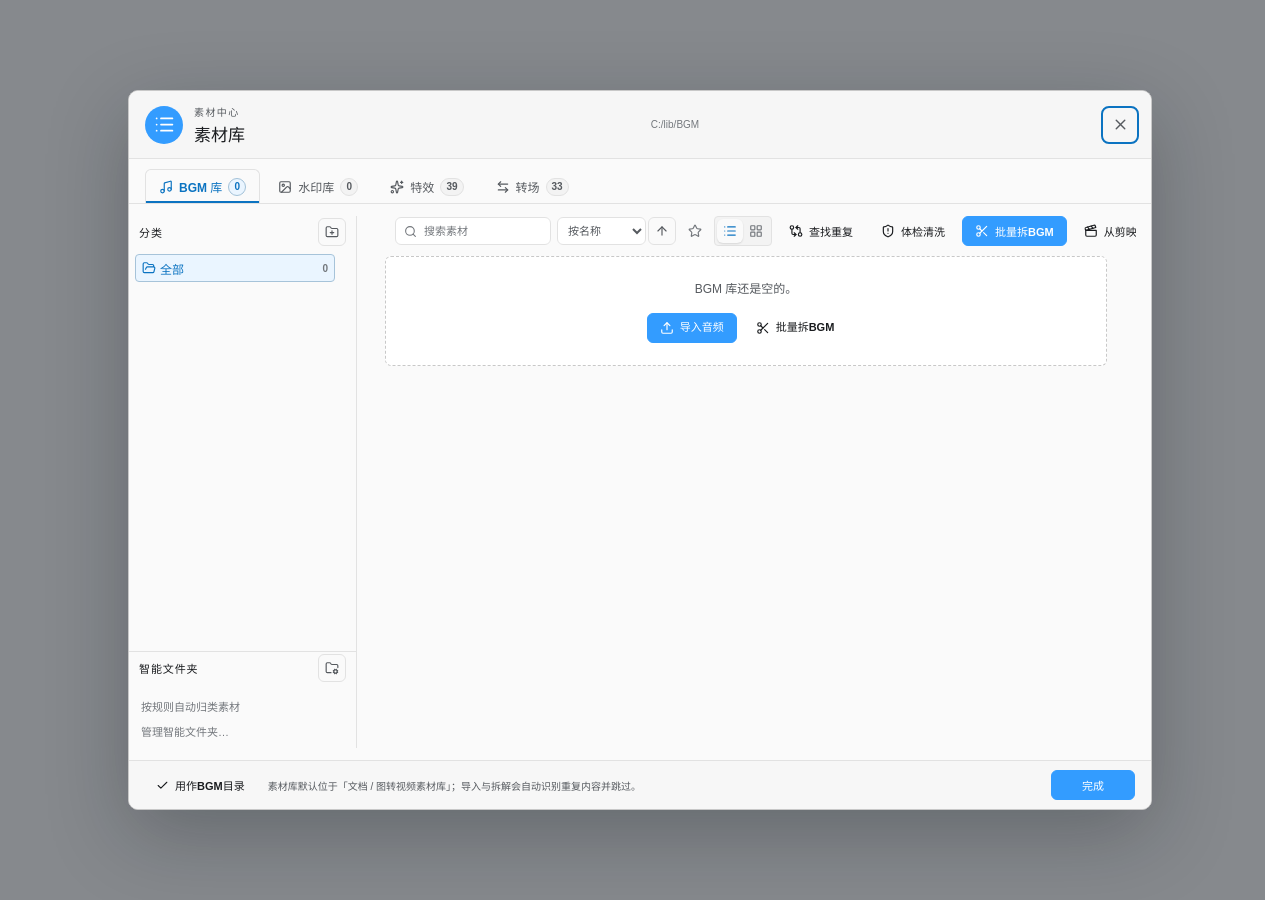
Scenario: 假字幕轨体检清洗 › 无异常文件时提示未发现
What coordinates should you click on to do the following:
click the button "体检清洗"
I would click on:
 (913, 231)
Its box is left=870, top=216, right=956, bottom=246.
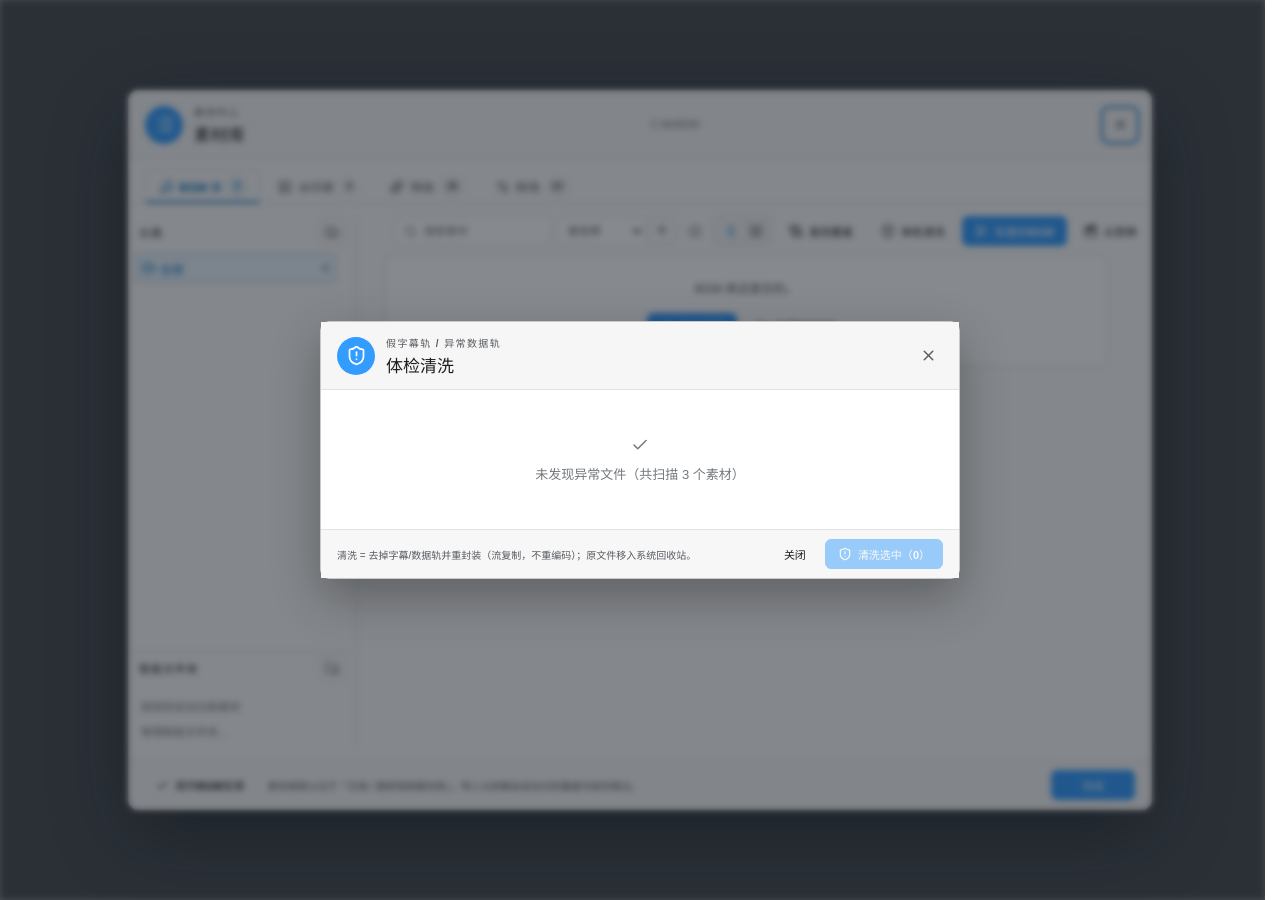
Now the text "未发现异常文件（共扫描 3 个素材）" is shown, box left=535, top=436, right=745, bottom=482
